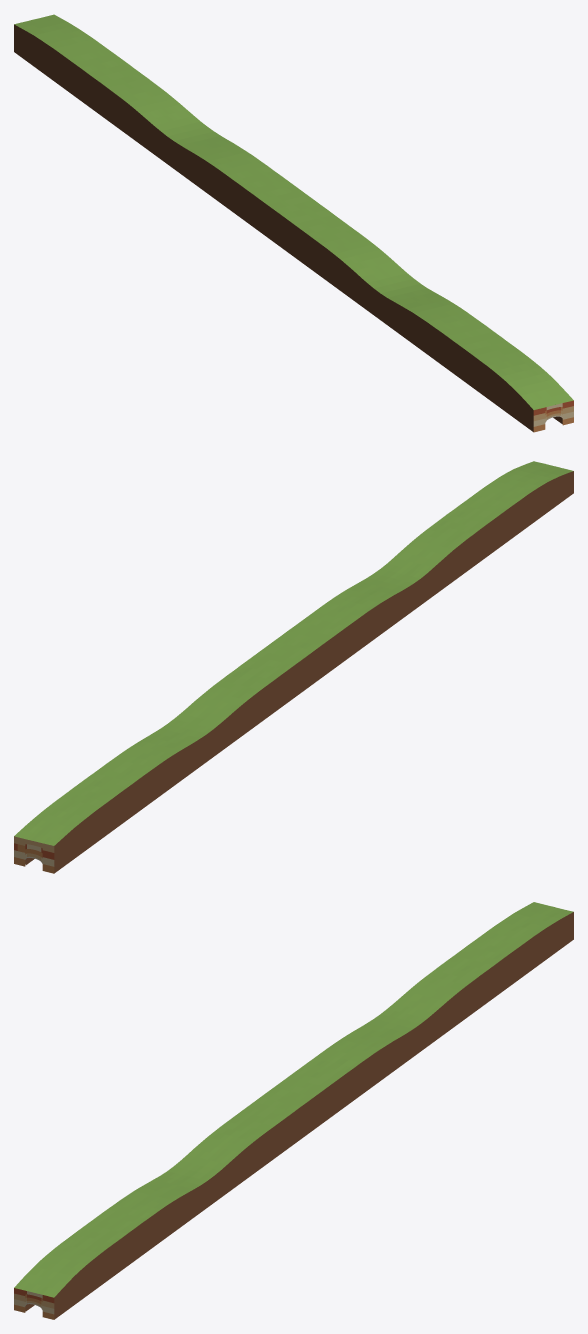
The model's file is tunel_13b.glb.
3 renders of one model, top to bottom at view 1: azimuth 30°, elevation 25°; view 2: azimuth 150°, elevation 25°; view 3: azimuth 330°, elevation 25°, orthographic.
Visible parts, largest first — view 1: tunel_13b; view 2: tunel_13b; view 3: tunel_13b.
Boxes of the visible parts, x1,y1,x2,y2 form: tunel_13b: [14, 14, 573, 432]; tunel_13b: [14, 461, 573, 873]; tunel_13b: [14, 902, 573, 1319].
Bounding box in the file's own units: 84 × 65.26 × 1884.
